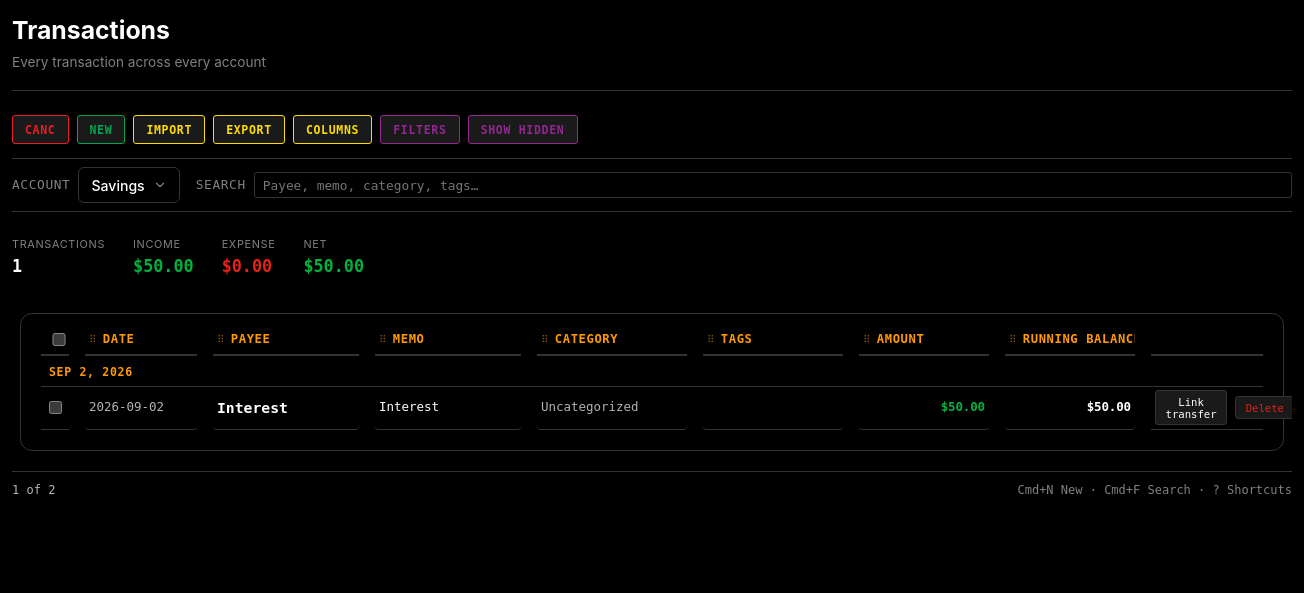
it: AllTransactionsScreen › can switch back to all Accounts after narrowing
The image size is (1304, 593).
Select "All accounts" in the dropdown named "Filter by account" at (96, 185), box [12,167,180,203]
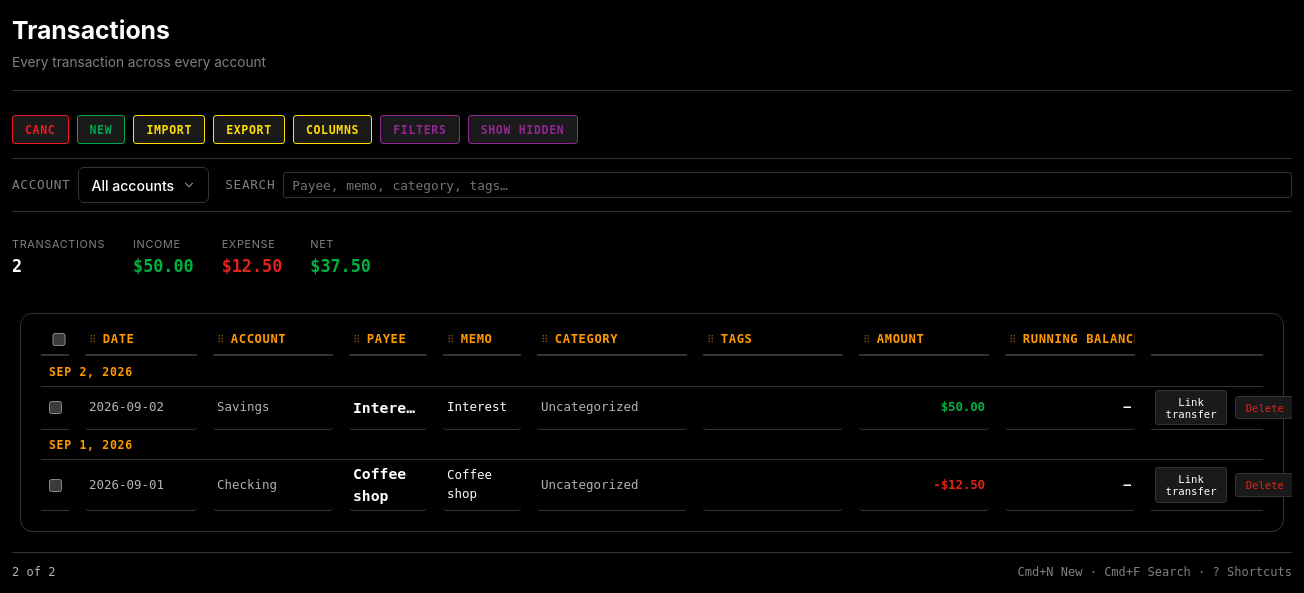
Check: the 2nd text "Interest" is shown, box [443,387,521,430]
Check: the 2nd text "Coffee shop" is shown, box [443,460,521,511]
